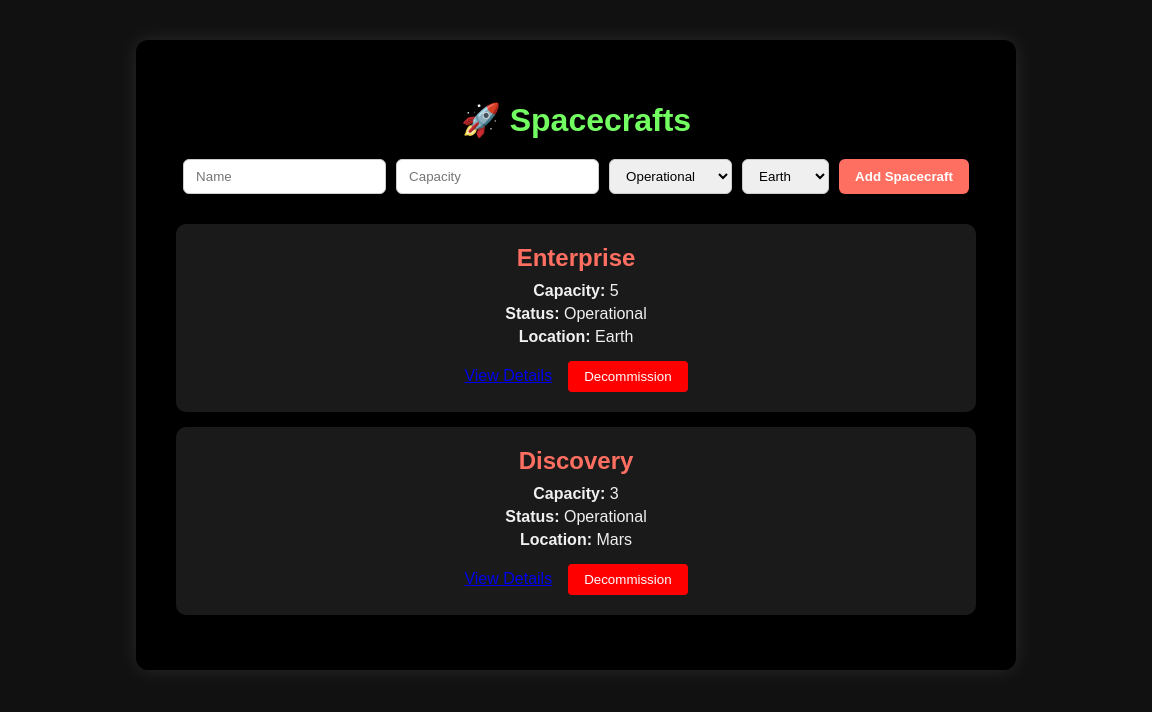
Spacecrafts Page › adds a new spacecraft
This screenshot has width=1152, height=712.
Type "Voyager" into the field with placeholder "Name" at (285, 177), box [183,159,386,194]
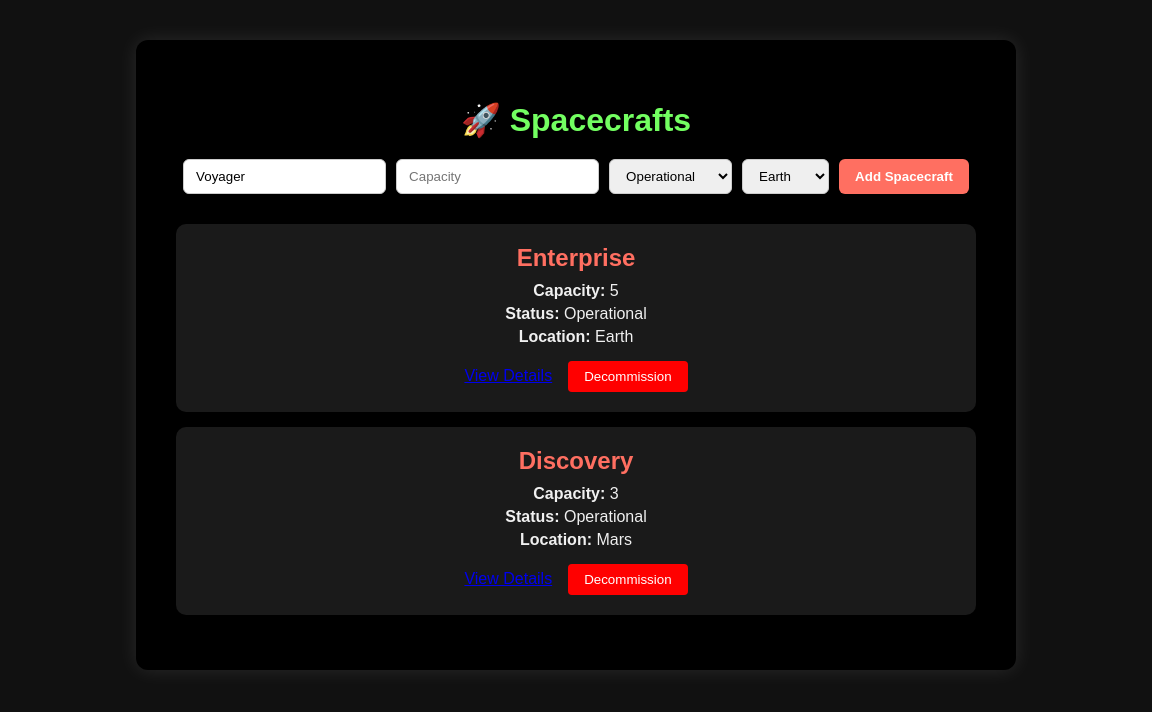
Type "10" into the number field with placeholder "Capacity" at (498, 177), box [396,159,599,194]
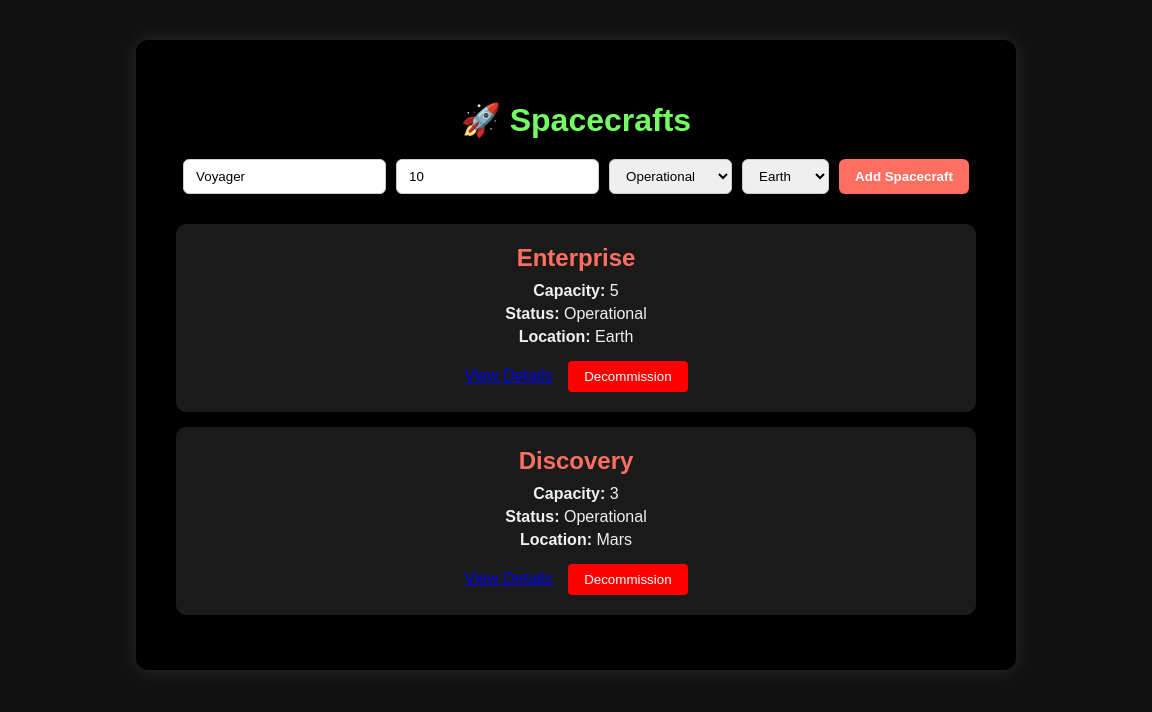
Select "Operational" in the 1st dropdown showing "Operational" at (671, 177), box [609,159,732,194]
Select "Mars" in the 2nd dropdown showing "Earth" at (786, 177), box [742,159,829,194]
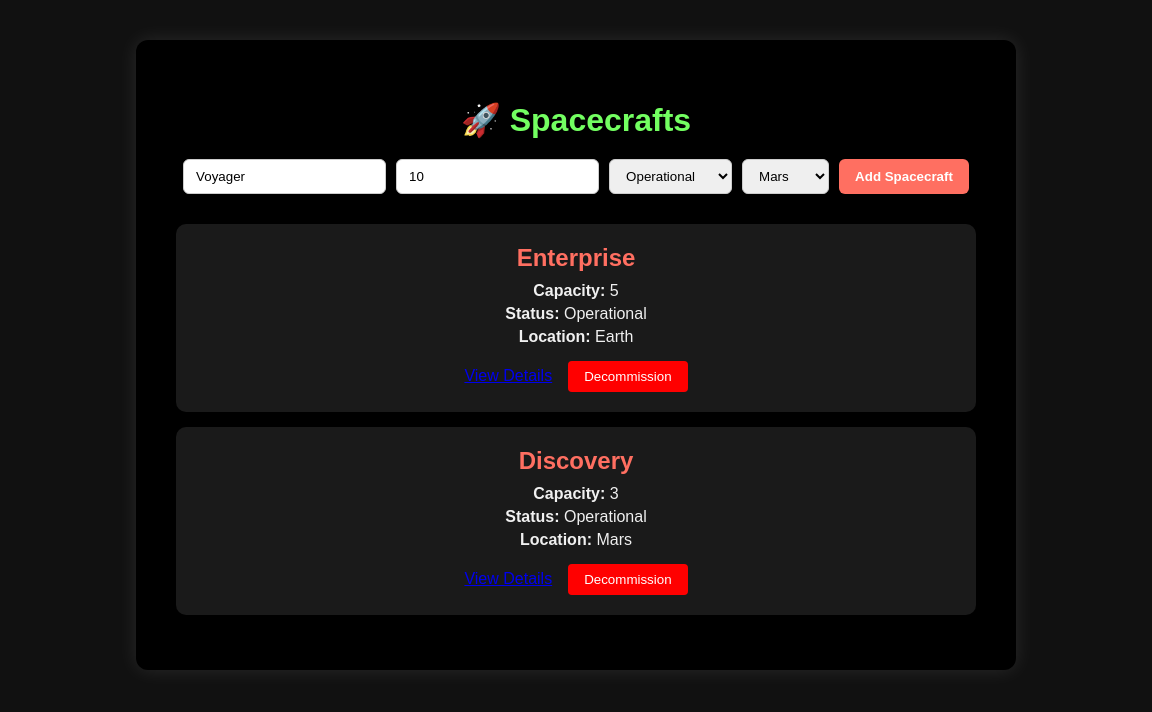
Click the button "Add Spacecraft" at (904, 177), box [839,159,969,194]
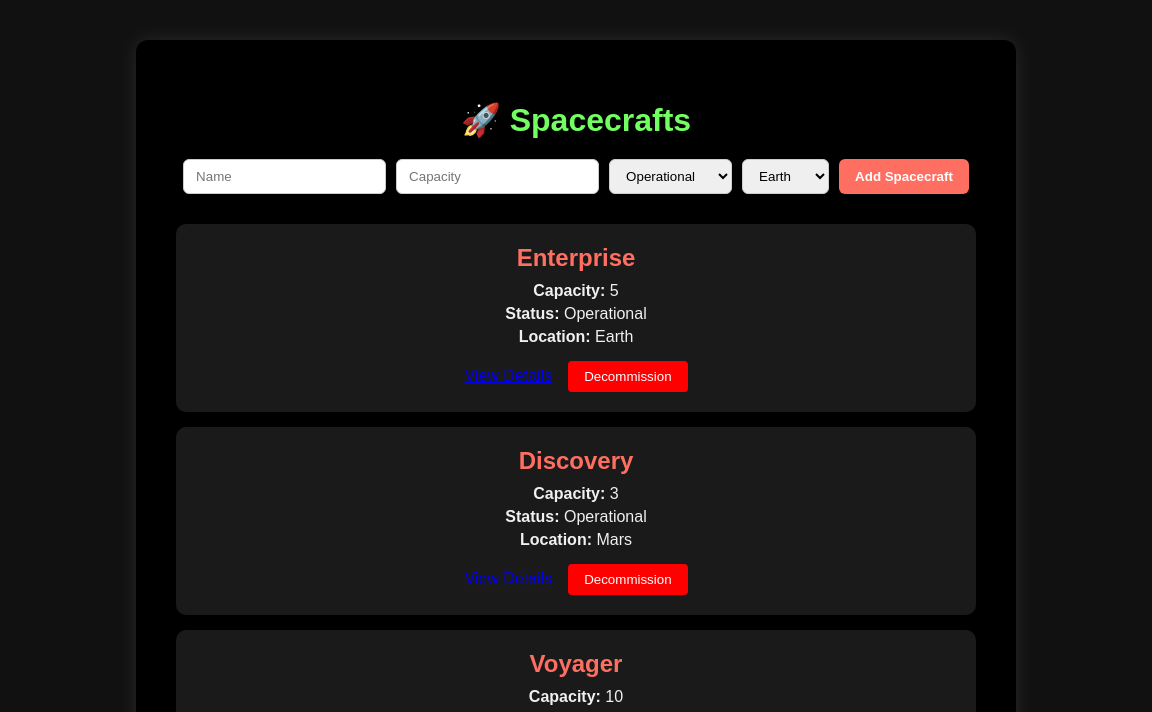
Expected: the heading "Voyager" is shown, [530,650,622,677]
